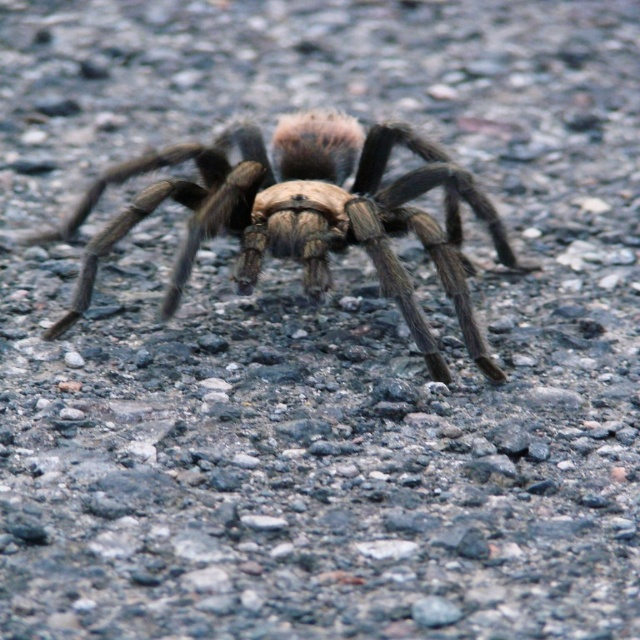Spider: (19, 107, 543, 385)
